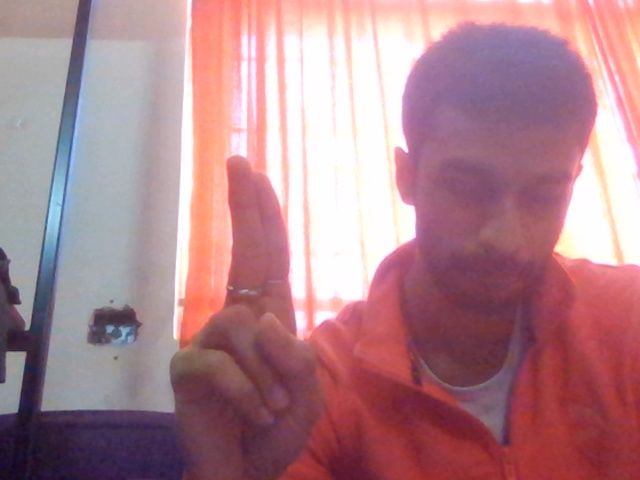U: (132, 116, 382, 480)
